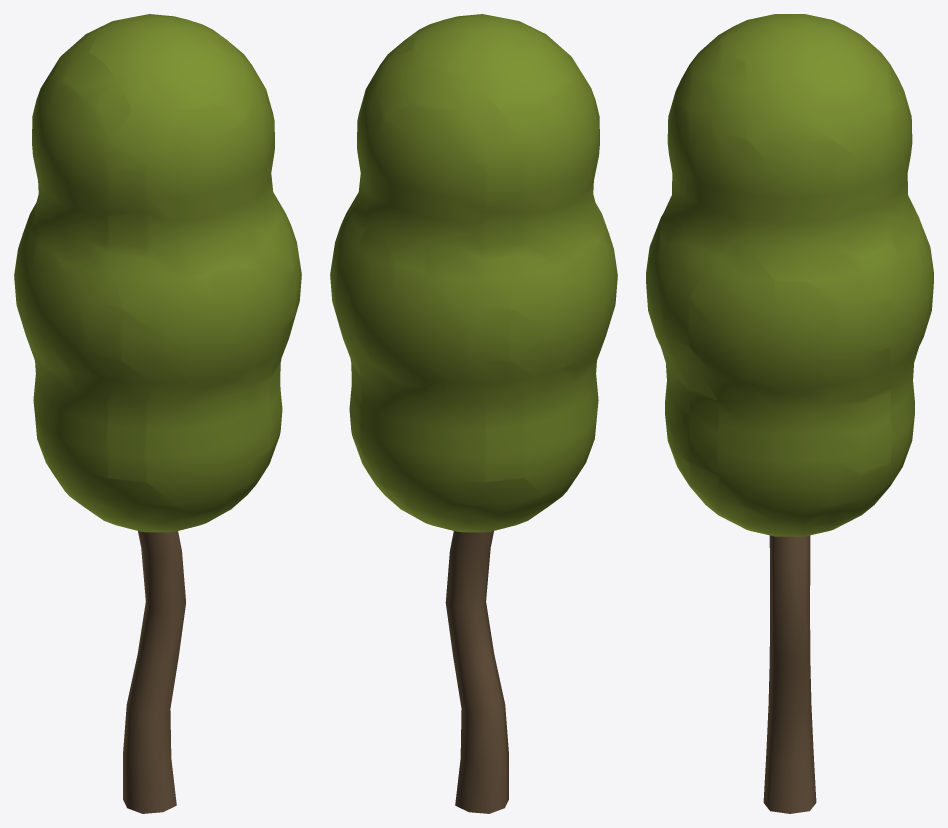
Rendered from tree2.glb.
3 renders of one model, left to right at view 1: azimuth 30°, elevation 25°; view 2: azimuth 150°, elevation 25°; view 3: azimuth 270°, elevation 25°, orthographic.
Parts seen in each view (by area): view 1: Tree_2; view 2: Tree_2; view 3: Tree_2.
Boxes of the visible parts, bbox=[...] form: Tree_2: bbox=[14, 14, 301, 813]; Tree_2: bbox=[330, 14, 617, 813]; Tree_2: bbox=[646, 14, 933, 813].
Bounding box in the file's own units: 2.08 × 6.22 × 2.08.
